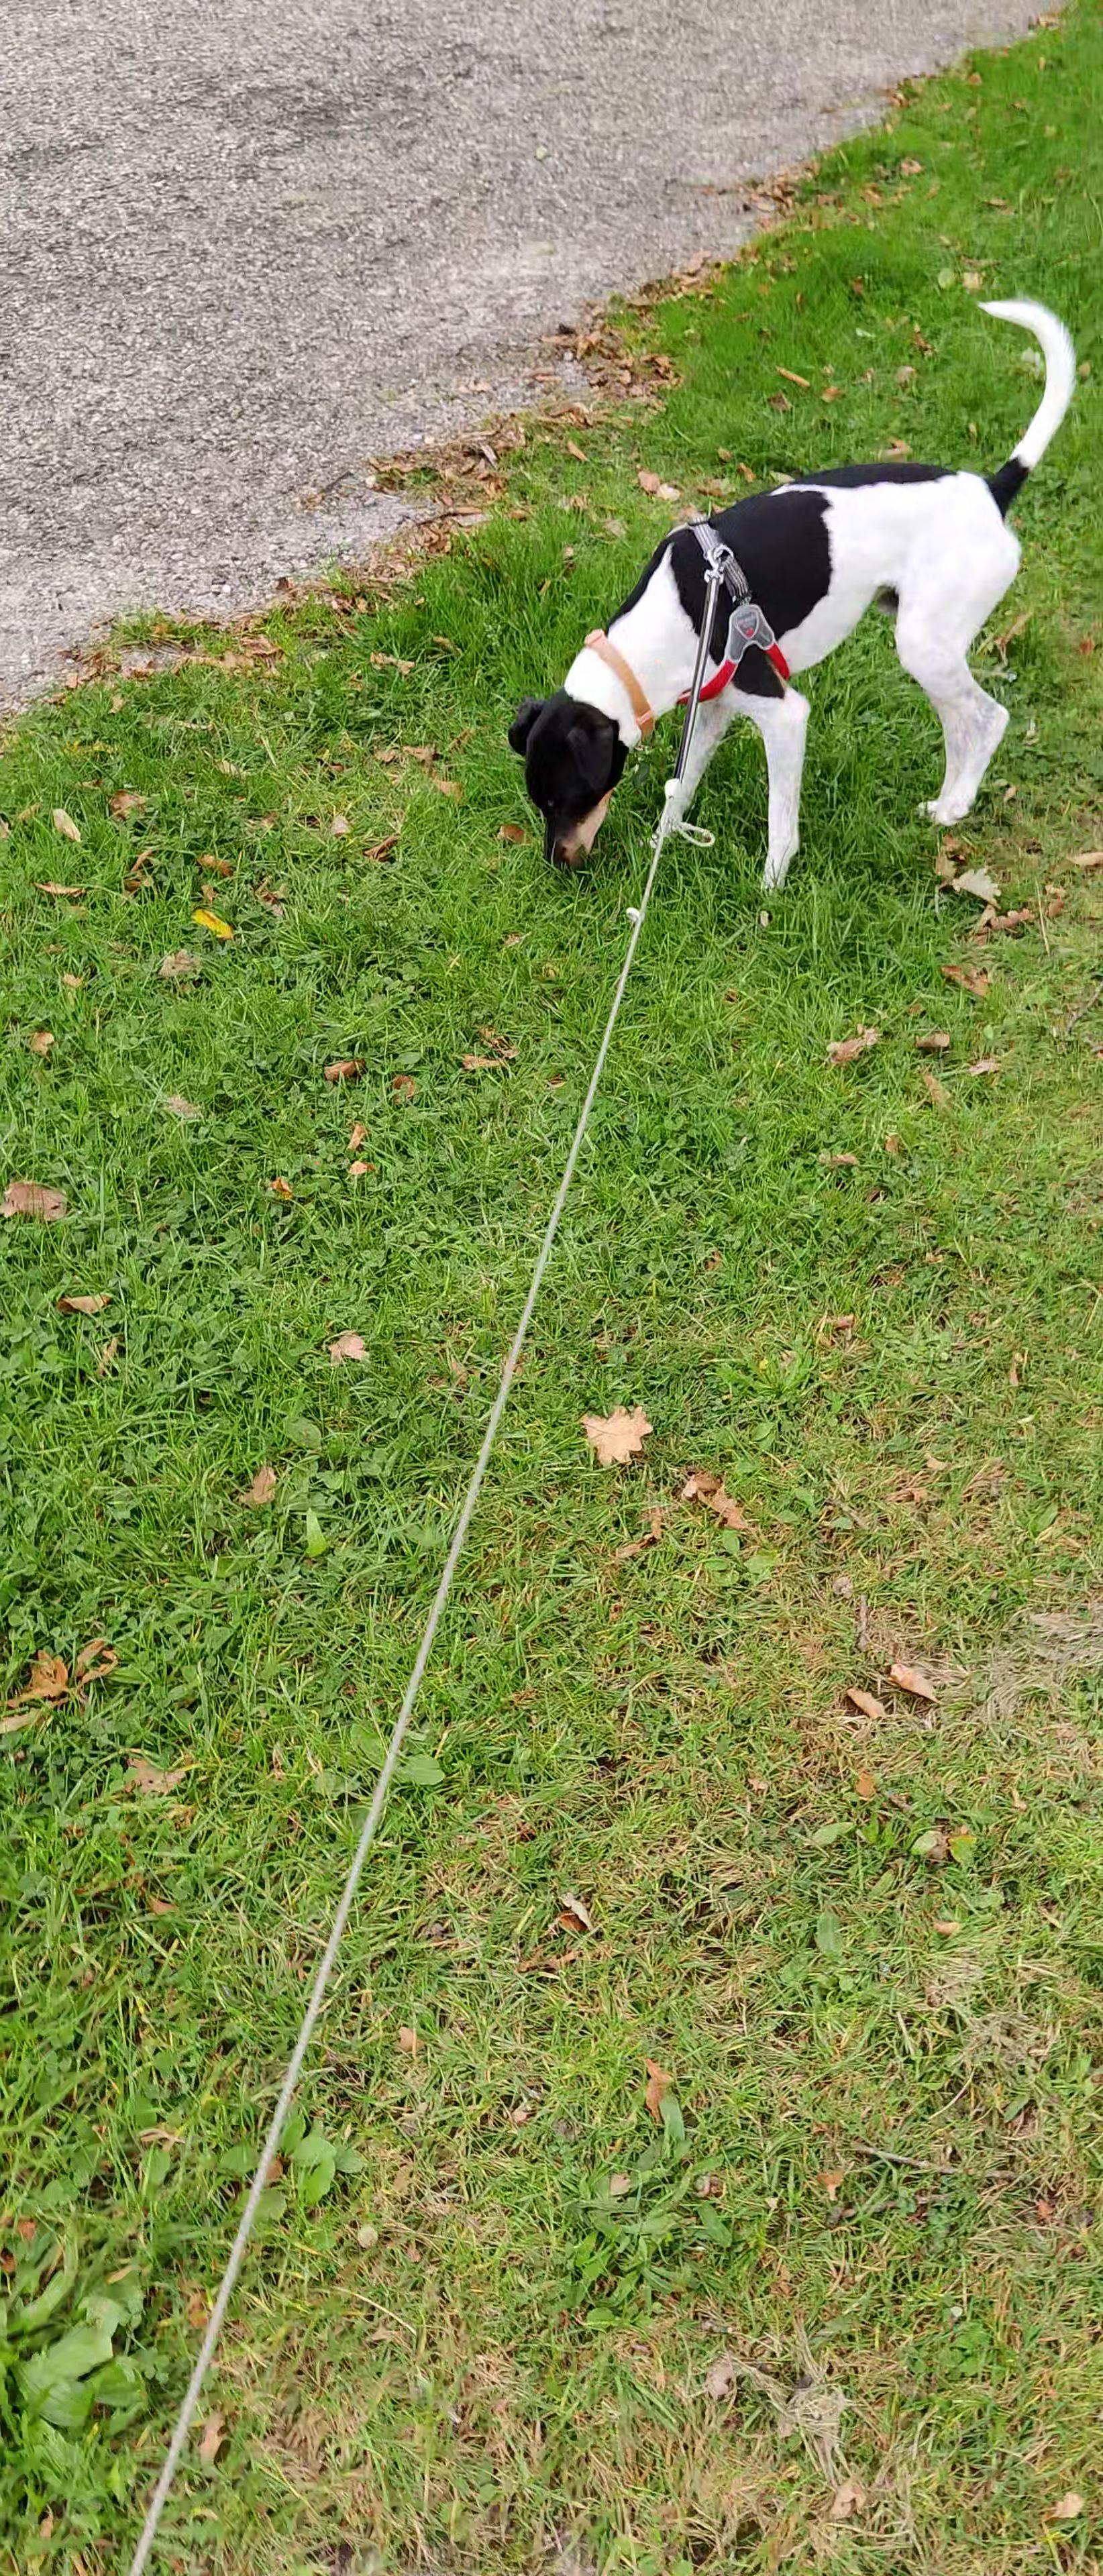Dog: (495, 292, 1077, 897)
